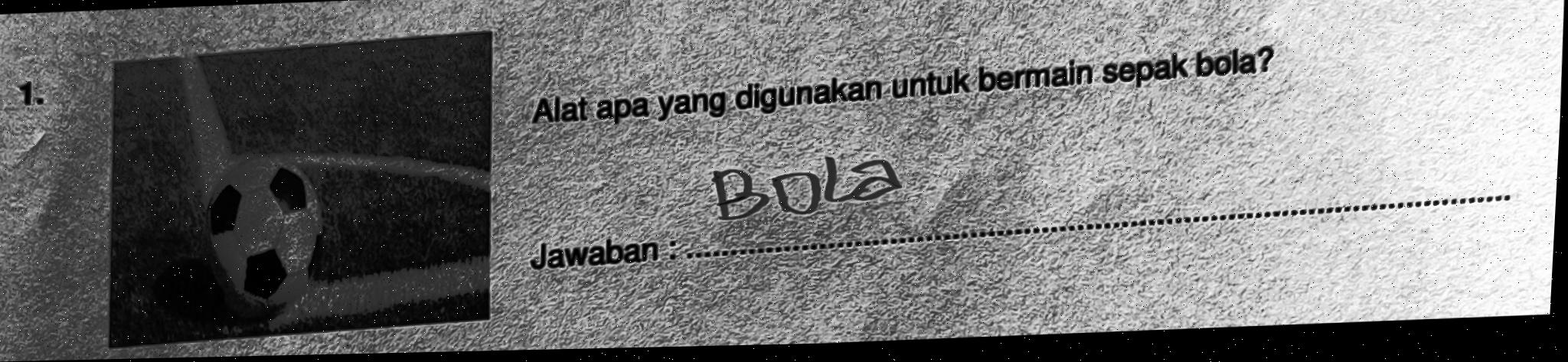jawaban: (708, 136, 909, 227)
